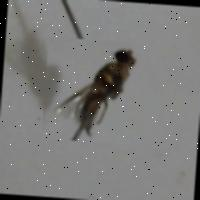Oriental-fruit-fly: (40, 36, 143, 144)
